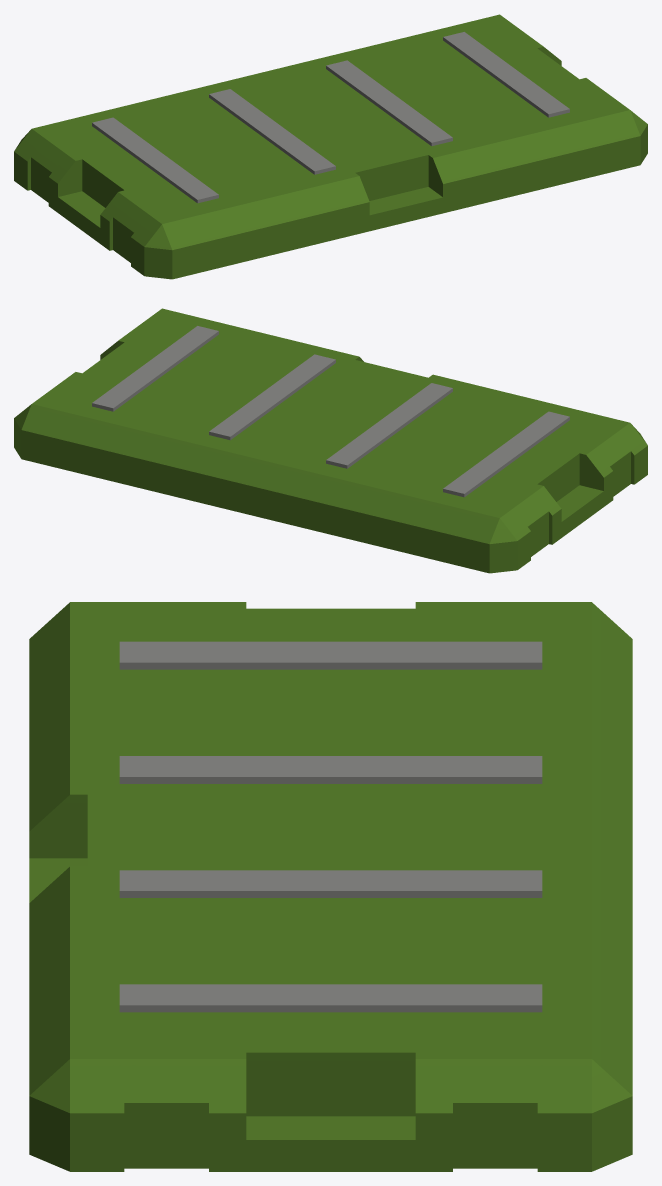
The model's file is AmoBox_01_2.fbx.
The picture shows the model from 3 angles, top to bottom: view 1: azimuth 30°, elevation 25°; view 2: azimuth 150°, elevation 25°; view 3: azimuth 270°, elevation 25°; orthographic projection. The views are drawn at different scales.
Parts seen in each view (by area): view 1: AmoBox_01_2; view 2: AmoBox_01_2; view 3: AmoBox_01_2.
Part boxes in pixels (x1,y1,x2,y2): AmoBox_01_2: (14,14,647,279); AmoBox_01_2: (14,308,647,573); AmoBox_01_2: (29,602,632,1171).
Bounding box in the file's own units: 0.9434 × 0.0918 × 0.4897.
